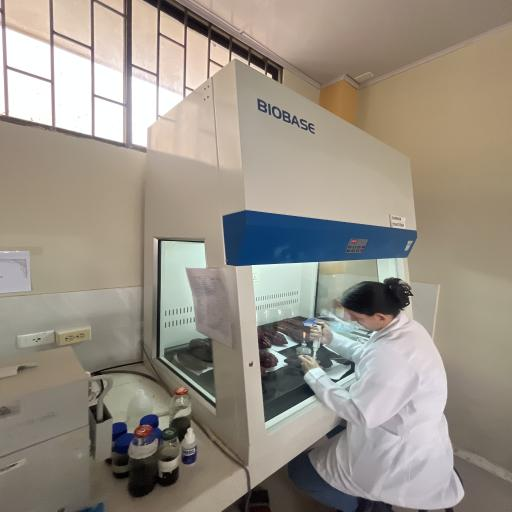Camara_Extractora_Biobase: (137, 50, 424, 478)
